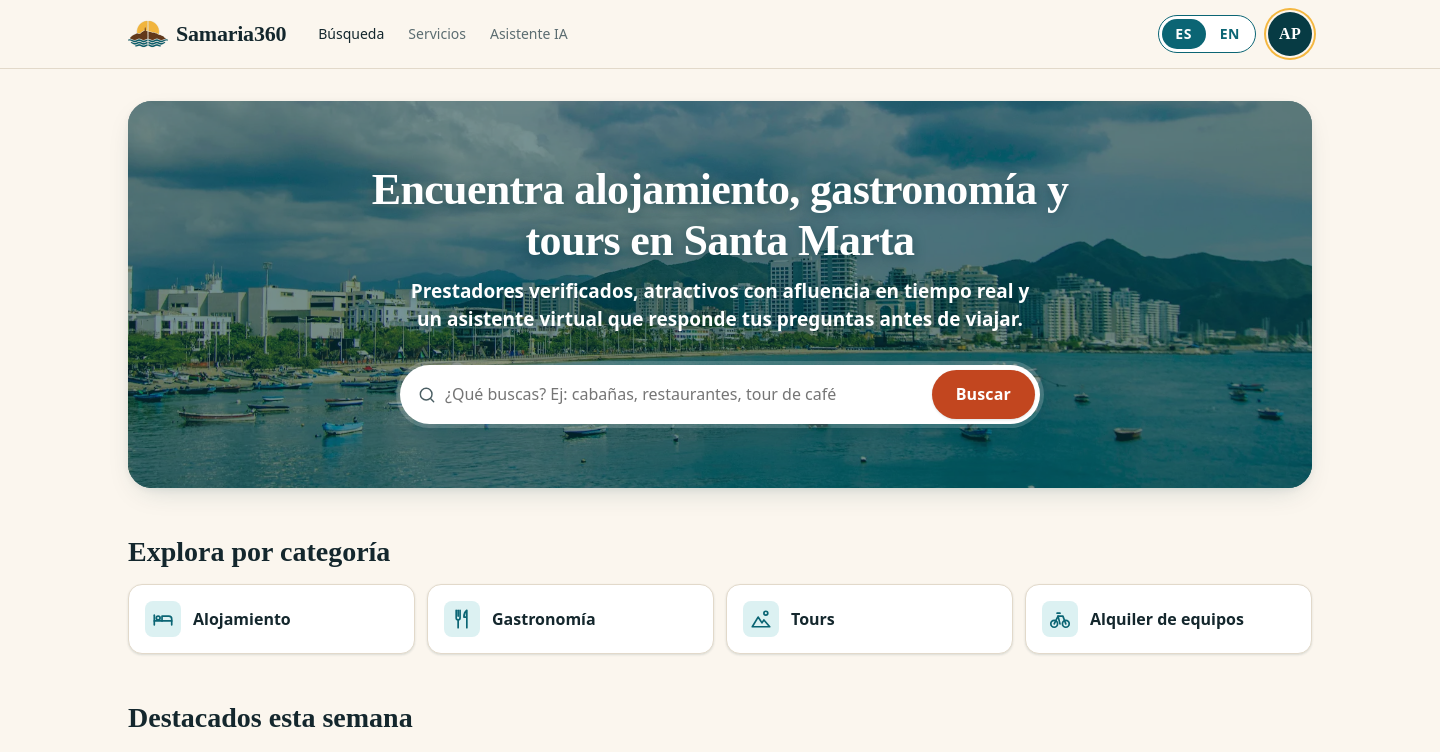
Test case: Menú del avatar › para un turista, «Mis reservas» va antes de «Cerrar sesión» y lleva a /mis-reservas
The image size is (1440, 752).
What coordinates should you click on to do the following:
click the button with aria-label "Menú de usuario de Ana Pérez"
I would click on:
 (1290, 34)
Its box is [1268, 12, 1312, 56].
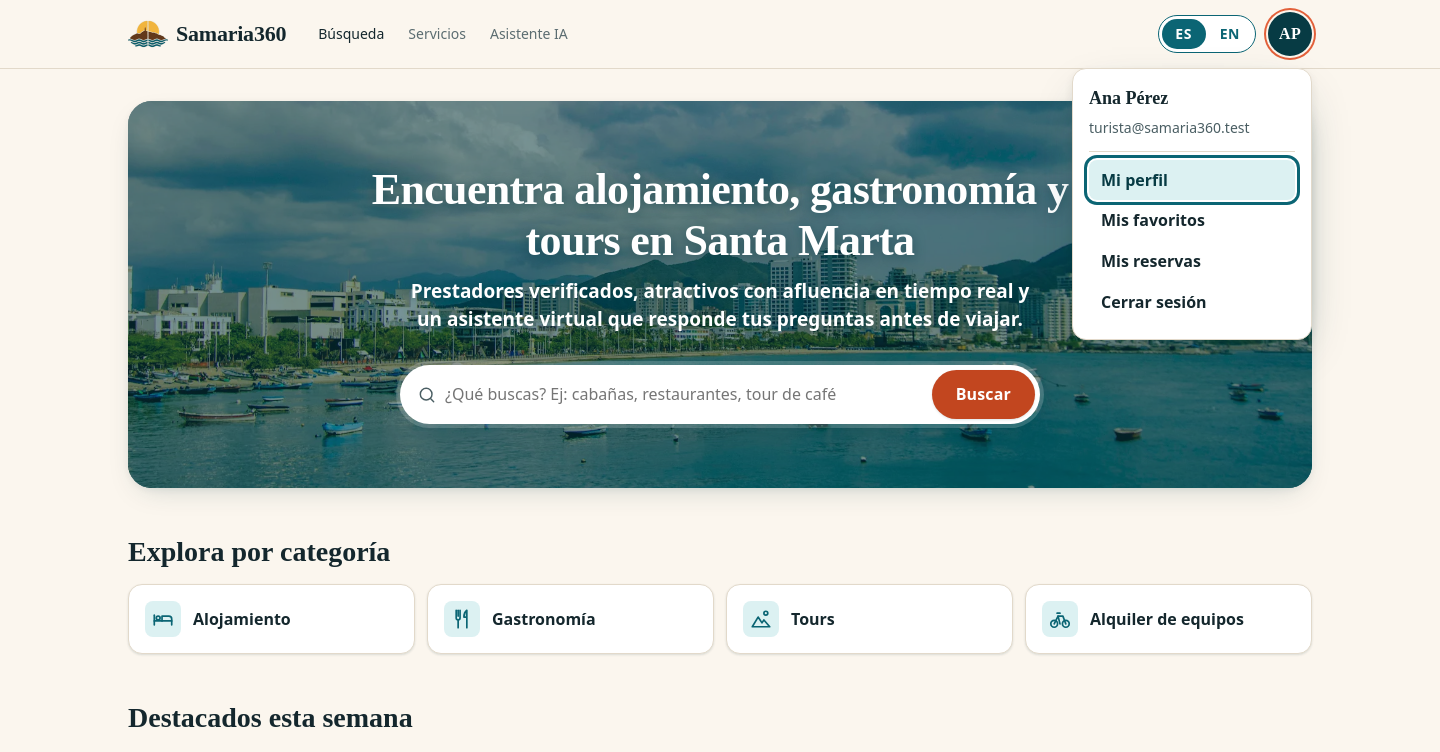
Expected: the menu items read "Mi perfil", "Mis favoritos", "Mis reservas", "Cerrar sesión", in this order
What coordinates should you click on to do the following:
click the menu item "Mis reservas"
I would click on:
 (1151, 261)
Its box is [1101, 250, 1201, 272].
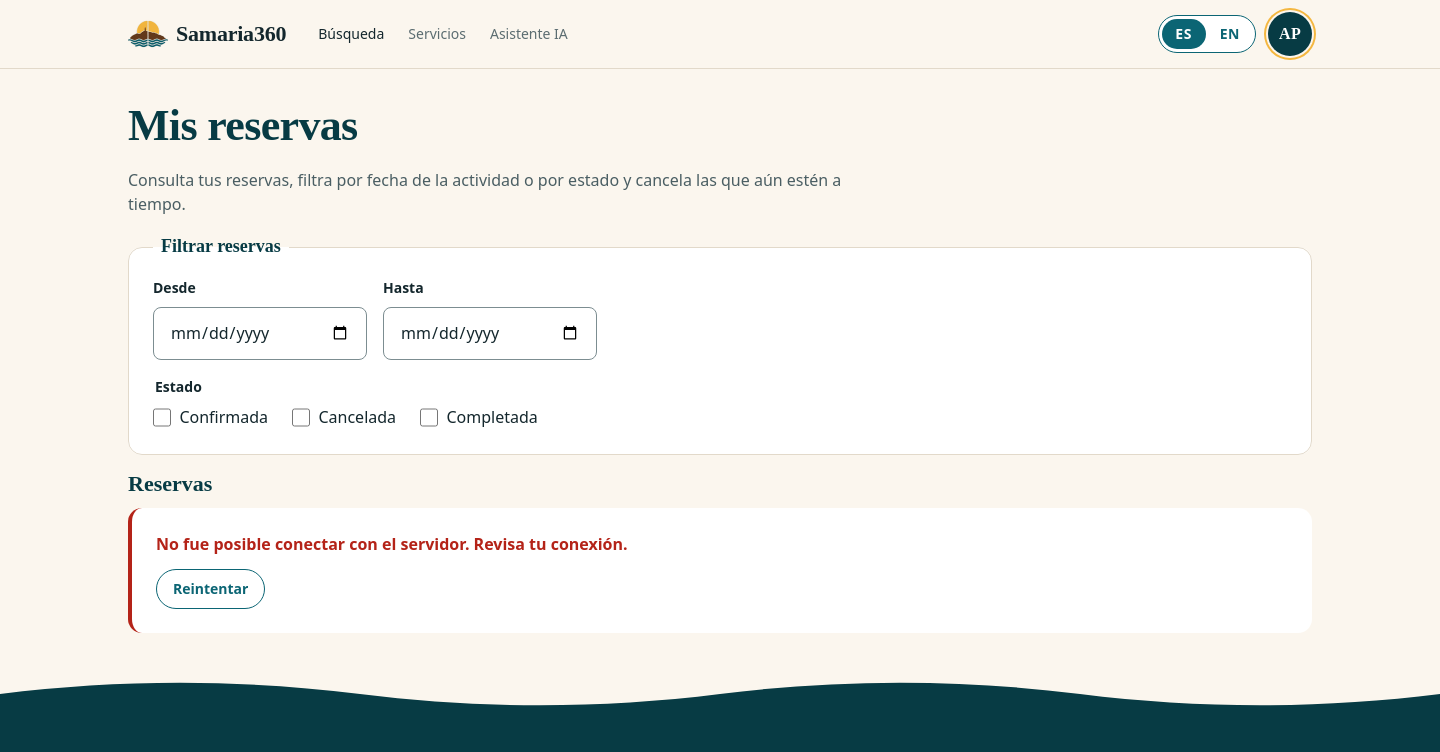
Expected: the menu is gone
